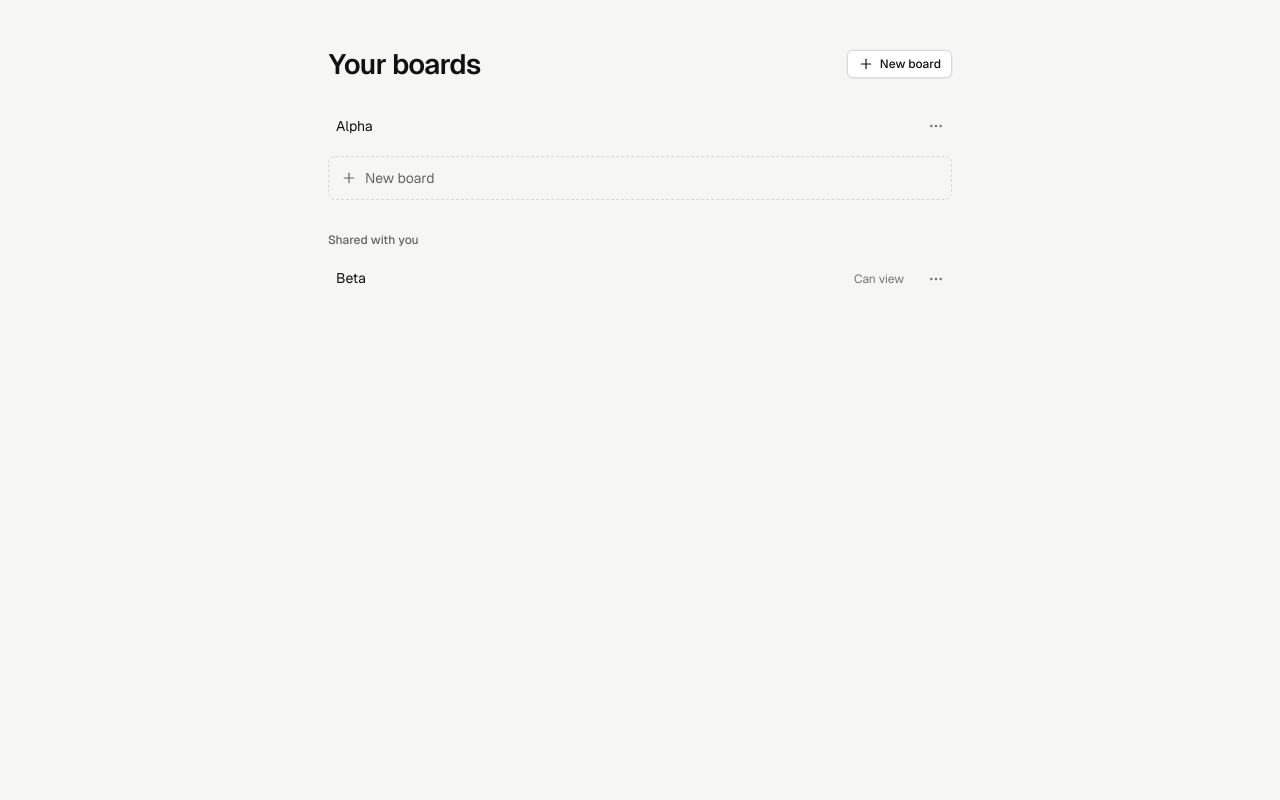
BoardHome › offers delete on own boards and leave on shared ones, never both
Click the button named "Options for Alpha".
click(936, 126)  # box top-left (920, 110), bottom-right (952, 142)
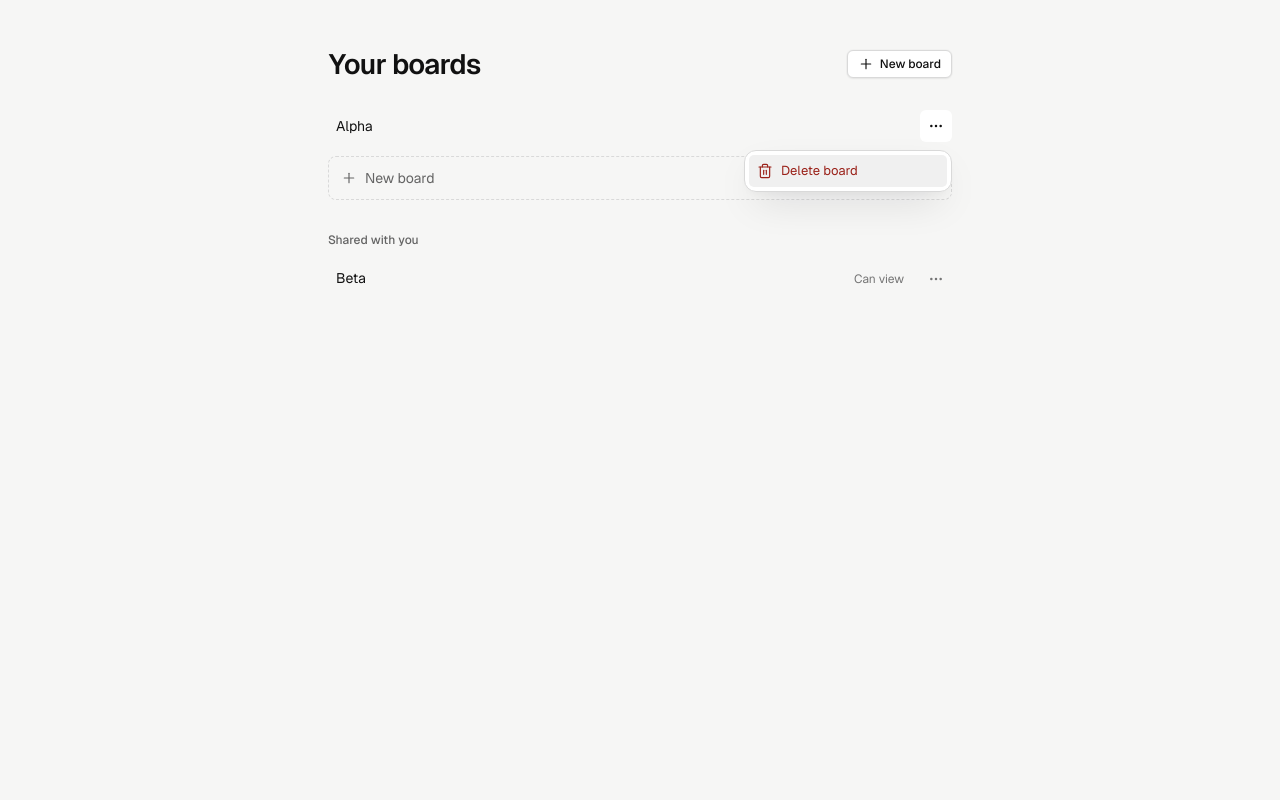
expect the button "Leave board" is not shown: met
expect the button "Delete board" is shown: met, box top-left (749, 155), bottom-right (947, 187)
Press Escape
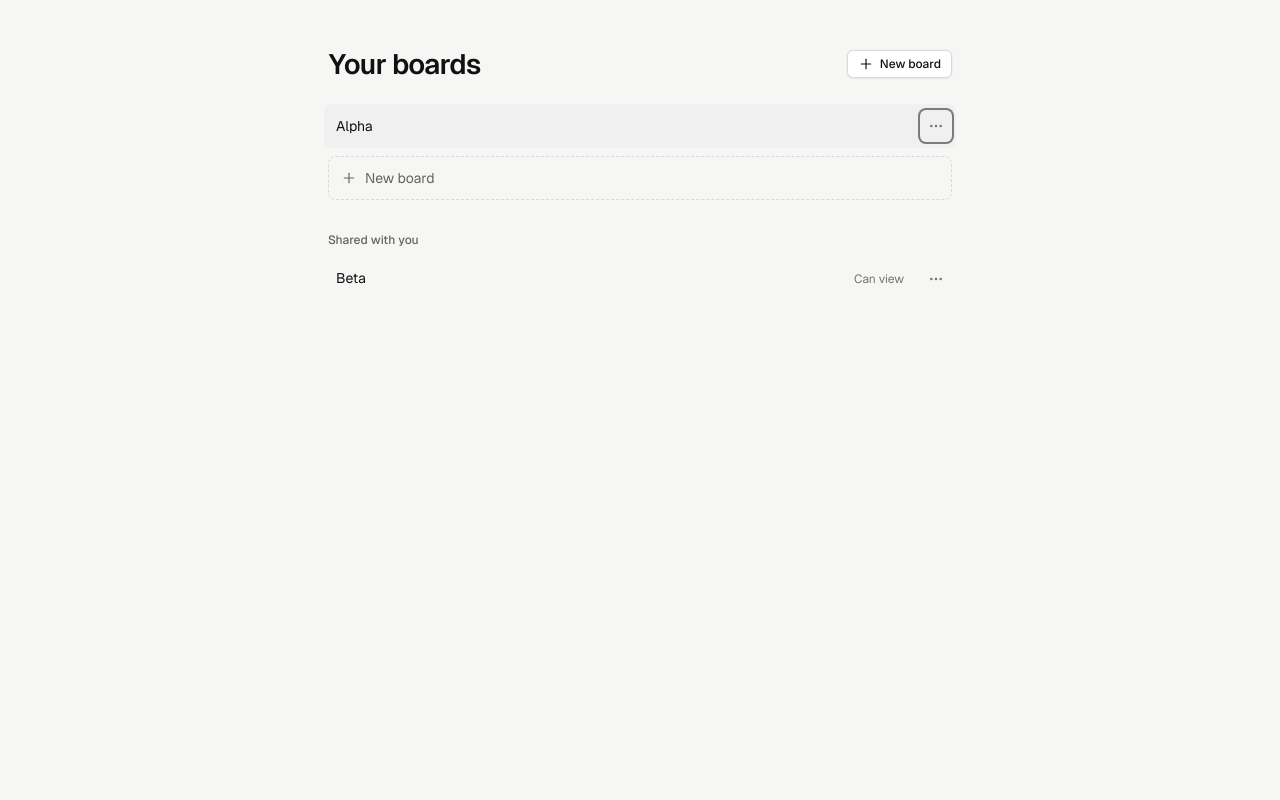
Click the button named "Options for Beta".
click(936, 279)  # box top-left (920, 263), bottom-right (952, 295)
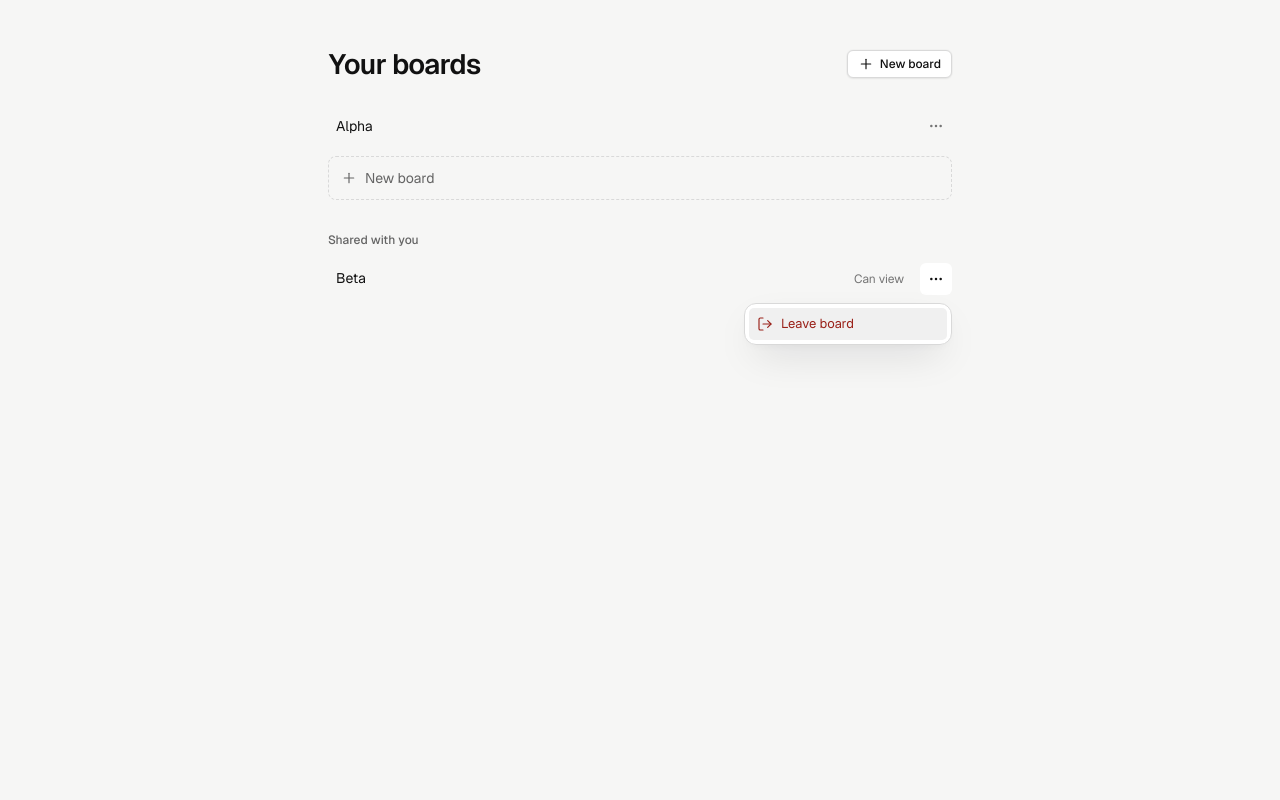
expect the button "Delete board" is not shown: met
expect the button "Leave board" is shown: met, box top-left (749, 308), bottom-right (947, 340)
